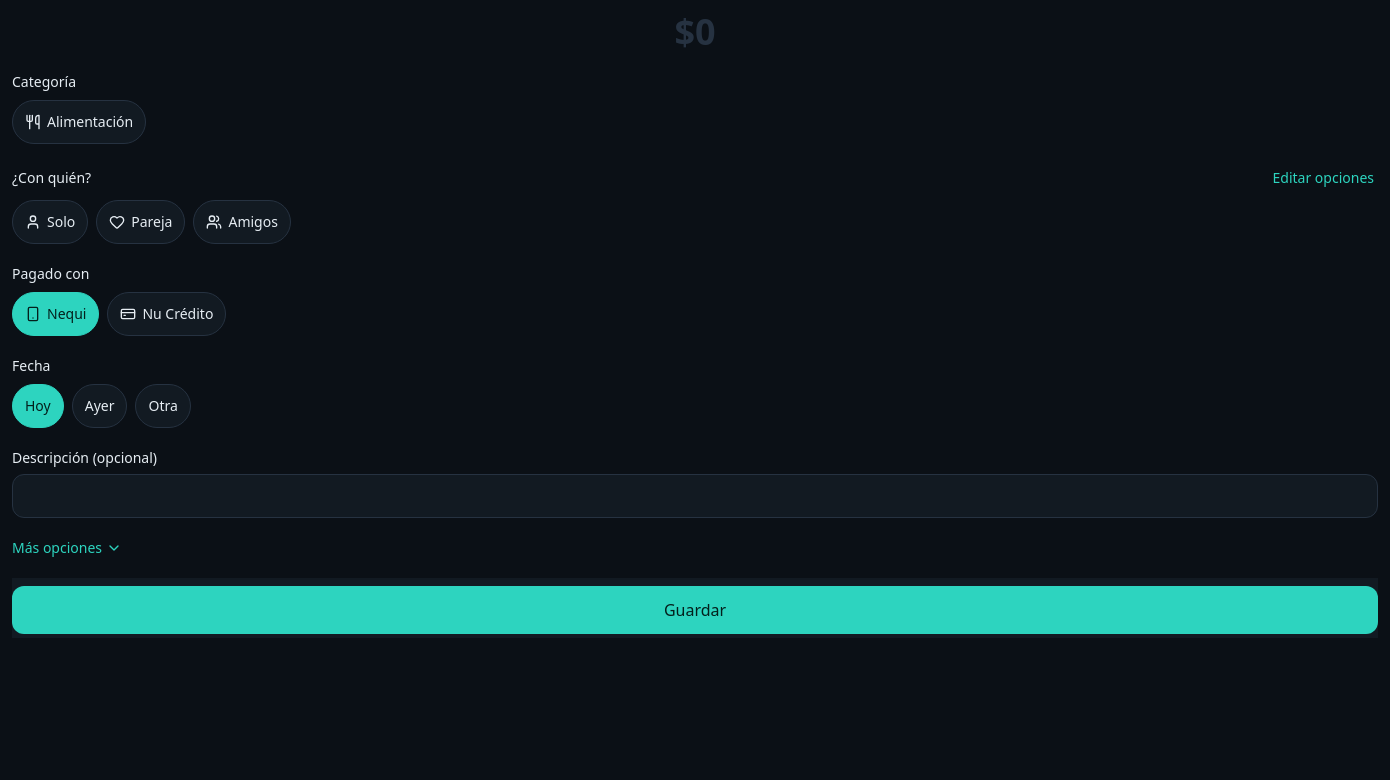
Test: TransactionForm (expense) › requires amount and category before saving
Click the button "Guardar" at (695, 610), box [12,586,1378,634]
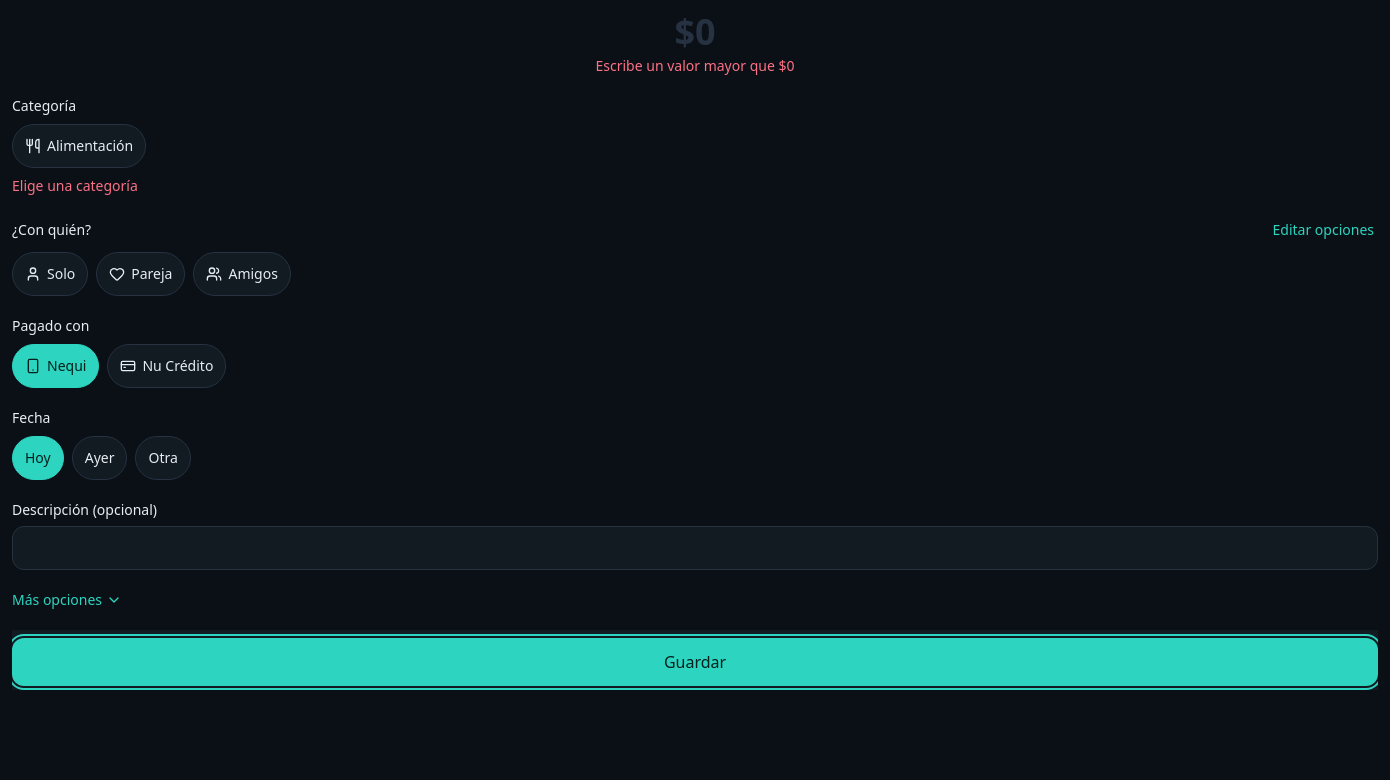
Result: the text "Escribe un valor mayor que $0" is shown at [596,56,794,75]
Result: the text "Elige una categoría" is shown at [12,176,138,195]
